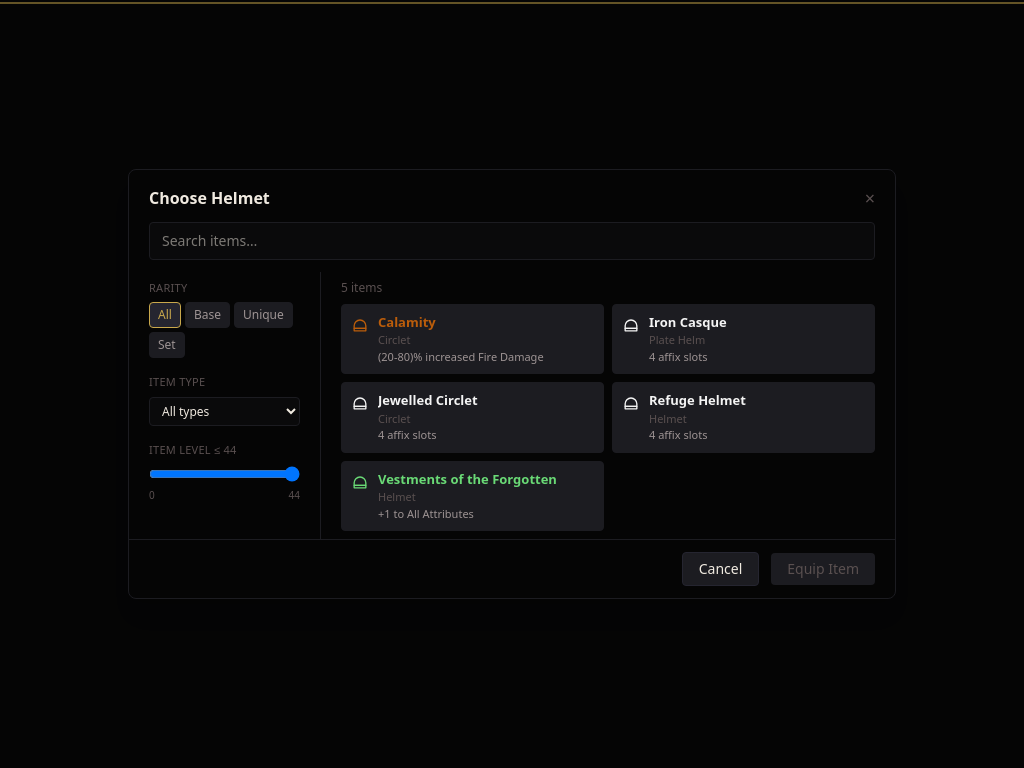
it: ItemPickerModal › Rarity=Unique hides bases and sets (collection filter)
This screenshot has width=1024, height=768.
Click the button "Unique".
click(263, 315)  # box [234,302,293,328]
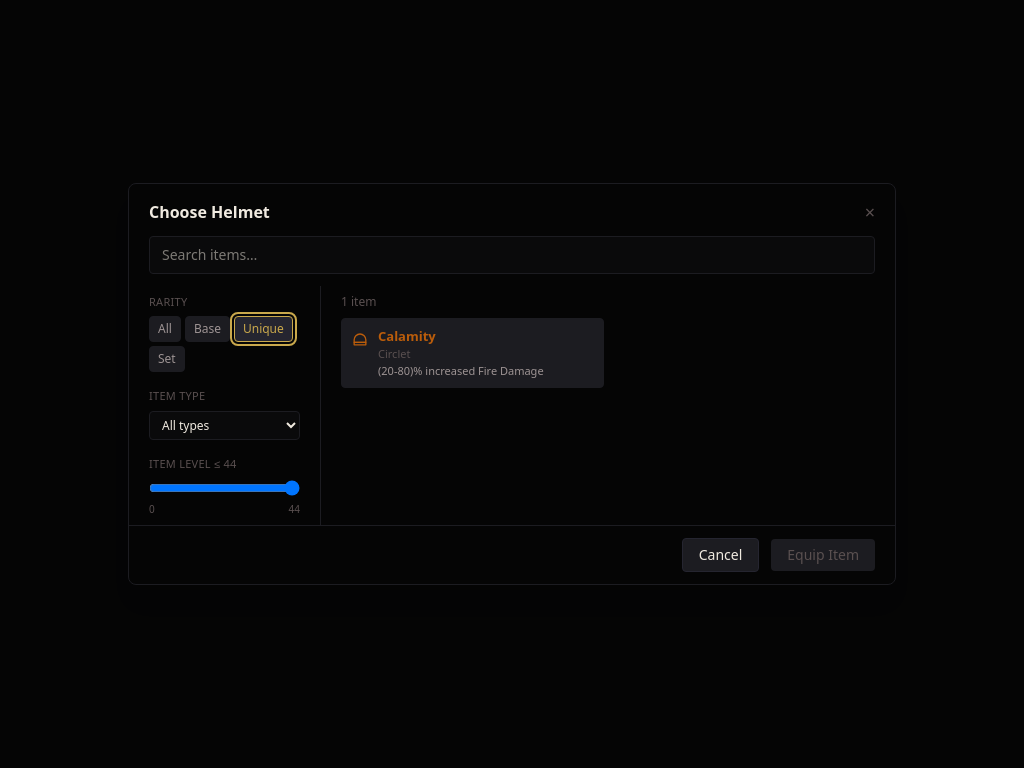
expect the text "Calamity" is shown: met, box [378,327,436,345]
expect the text "Jewelled Circlet" is gone: met
expect the text "Vestments of the Forgotten" is gone: met
